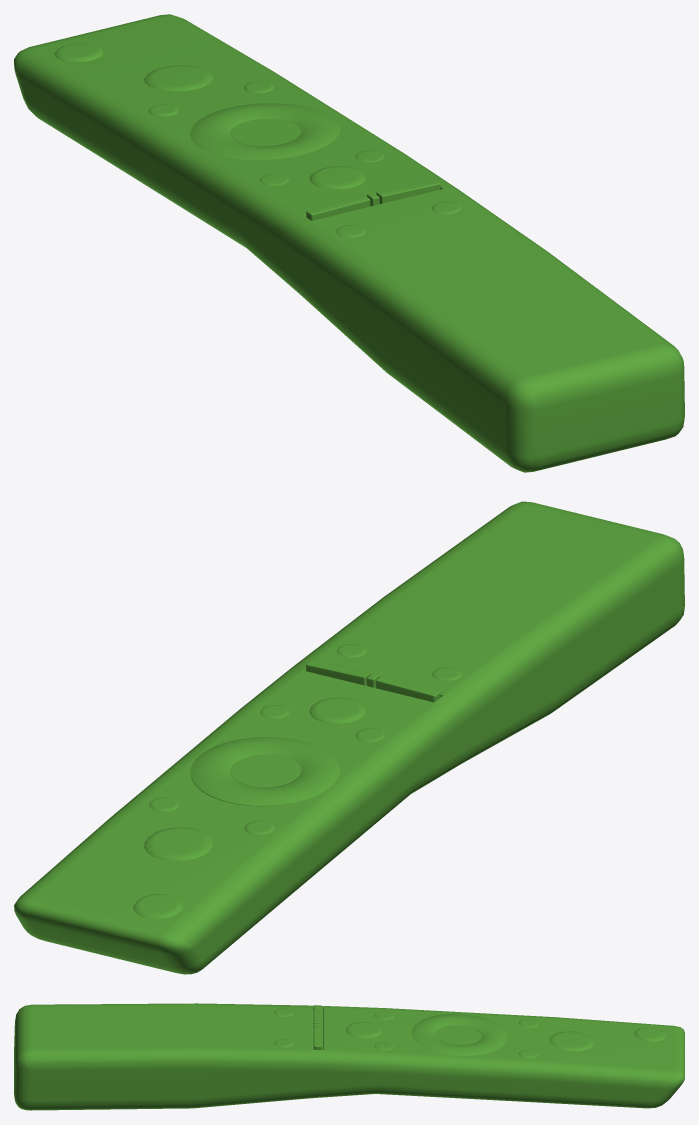
Rendered from Tv_remote.fbx.
3 renders of one model, top to bottom at view 1: azimuth 30°, elevation 25°; view 2: azimuth 150°, elevation 25°; view 3: azimuth 270°, elevation 25°, orthographic. The views are drawn at different scales.
Visible parts, largest first — view 1: Object003; view 2: Object003; view 3: Object003.
Part boxes in pixels (x1,y1,x2,y2): Object003: [14, 14, 684, 472]; Object003: [14, 501, 684, 974]; Object003: [14, 1003, 684, 1110].
Size of the model in its own units: 4 by 2.1 by 20.33.
